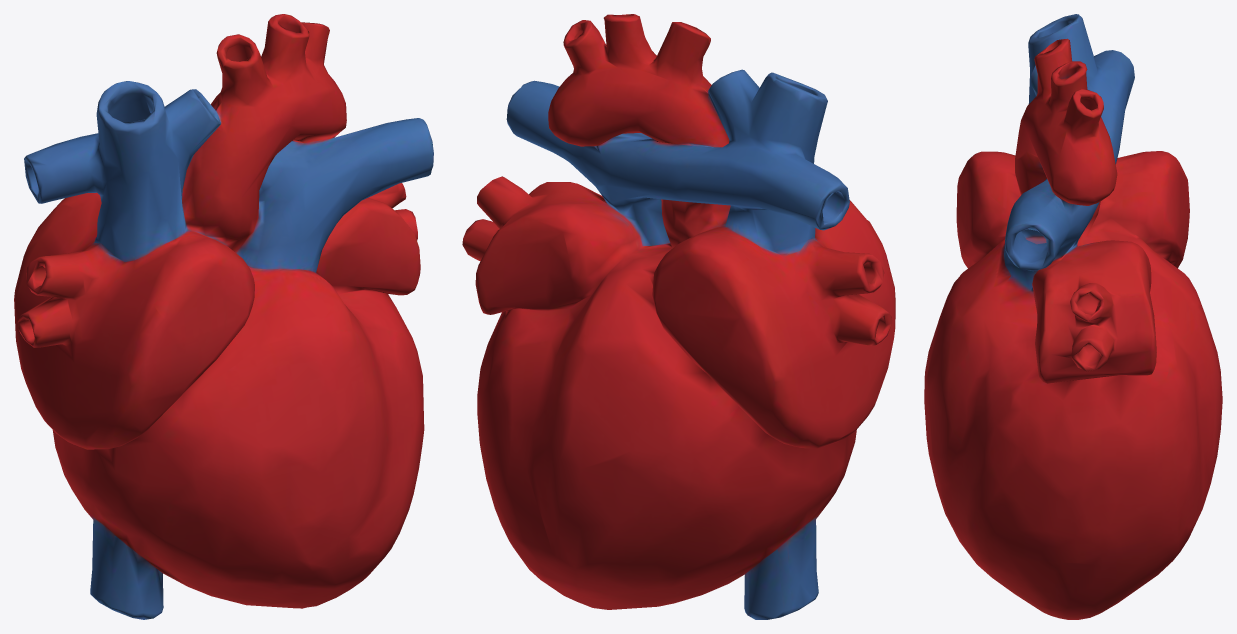
Rendered from coracao.glb.
3 views of the same model, side by side, from view 1: azimuth 30°, elevation 25°; view 2: azimuth 150°, elevation 25°; view 3: azimuth 270°, elevation 25° (orthographic). The views are drawn at different scales.
Visible parts, largest first — view 1: corpo; view 2: corpo; view 3: corpo.
Boxes of the visible parts, x1=… form: corpo: x1=14, y1=14, x2=433, y2=619; corpo: x1=462, y1=14, x2=895, y2=619; corpo: x1=924, y1=14, x2=1222, y2=619.
Size of the model in its own units: 0.6969 by 0.9782 by 0.4904.
1 material, 1 textured.
